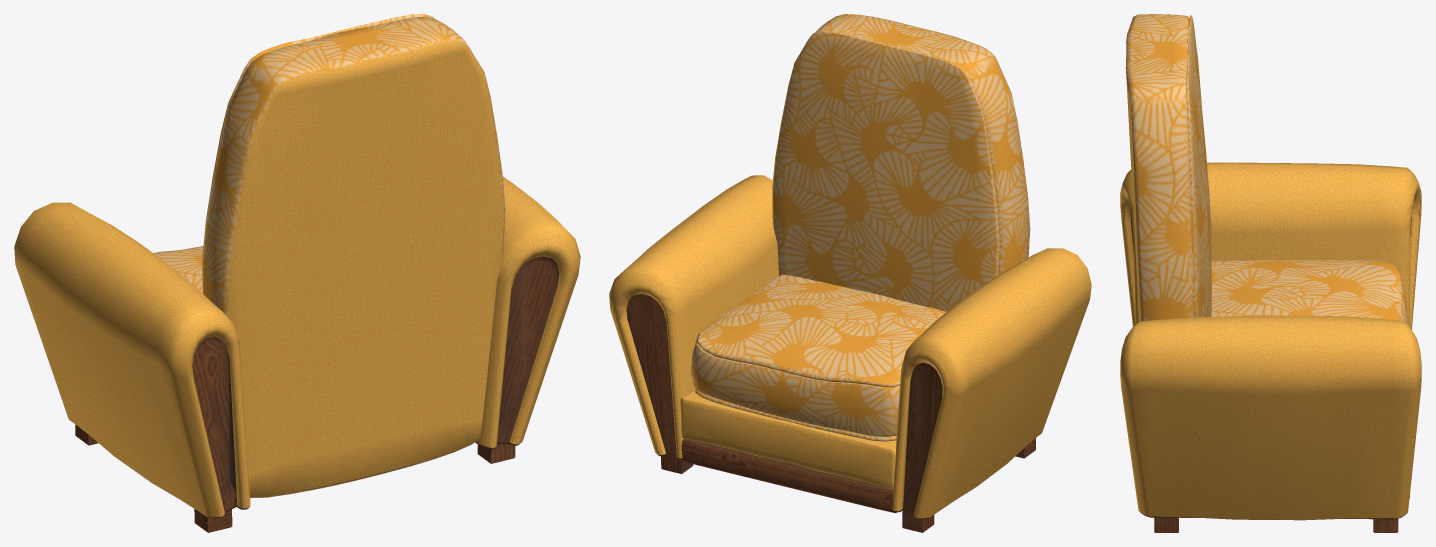
File: SM_LeatherCouch.fbx
3 renders of one model, left to right at view 1: azimuth 30°, elevation 25°; view 2: azimuth 150°, elevation 25°; view 3: azimuth 270°, elevation 25°, orthographic. The views are drawn at different scales.
Visible parts, largest first — view 1: SM_LeatherCouch_LOD0; view 2: SM_LeatherCouch_LOD0; view 3: SM_LeatherCouch_LOD0.
Part boxes in pixels (x1,y1,x2,y2): SM_LeatherCouch_LOD0: [14, 14, 580, 532]; SM_LeatherCouch_LOD0: [609, 14, 1091, 532]; SM_LeatherCouch_LOD0: [1120, 14, 1421, 532].
Size of the model in its own units: 136 by 91.51 by 139.
1 material, 1 textured.
